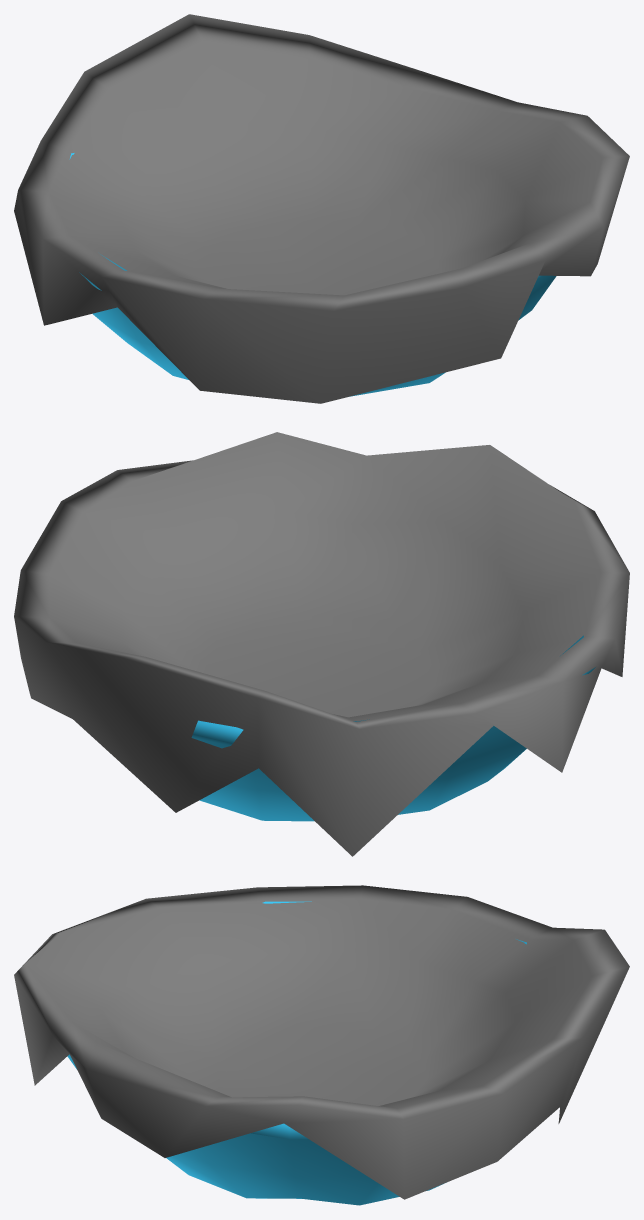
Rendered from Fruit_plate_A.fbx.
3 renders of one model, top to bottom at view 1: azimuth 30°, elevation 25°; view 2: azimuth 150°, elevation 25°; view 3: azimuth 270°, elevation 25°, orthographic. The views are drawn at different scales.
Visible parts, largest first — view 1: Fruit_plate_A; view 2: Fruit_plate_A; view 3: Fruit_plate_A.
Part boxes in pixels (x1,y1,x2,y2): Fruit_plate_A: (14, 14, 629, 403); Fruit_plate_A: (14, 432, 629, 856); Fruit_plate_A: (14, 885, 629, 1205).
Size of the model in its own units: 77.56 by 29.92 by 83.29.
